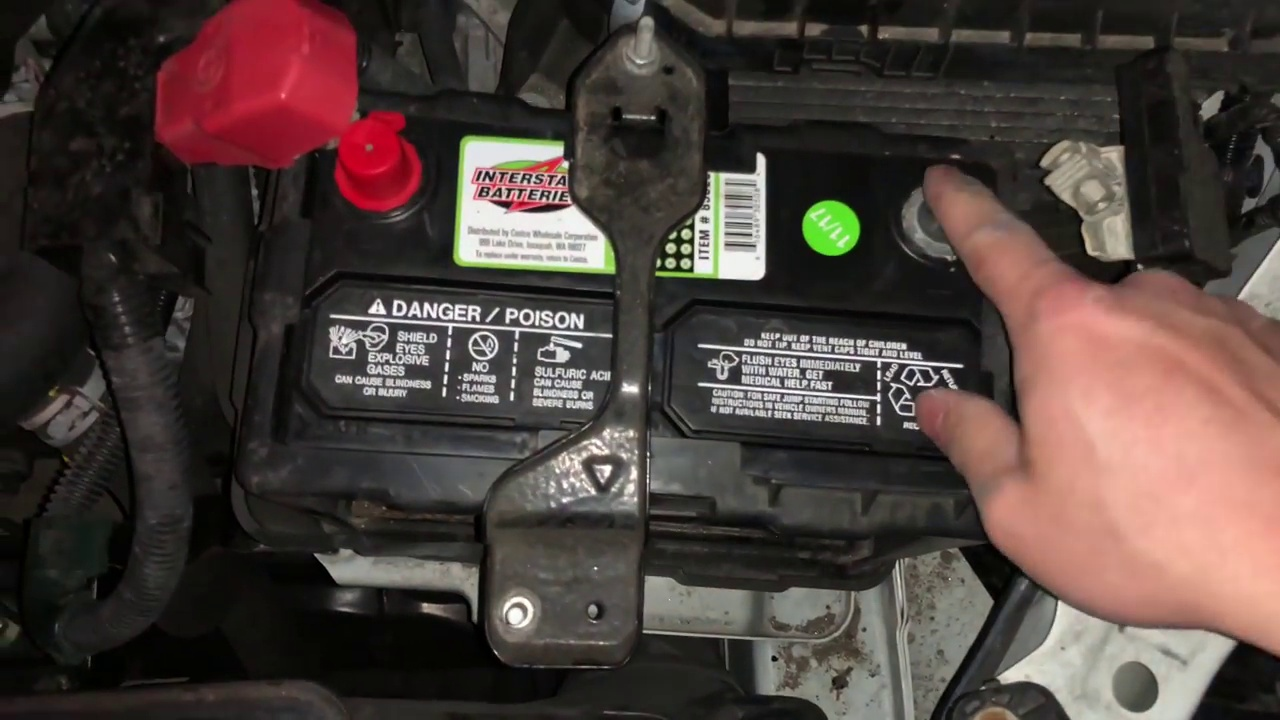battery: (245, 74, 1006, 544)
neg_touched: (870, 140, 1025, 289)
pos_disconnected: (173, 37, 429, 214)
